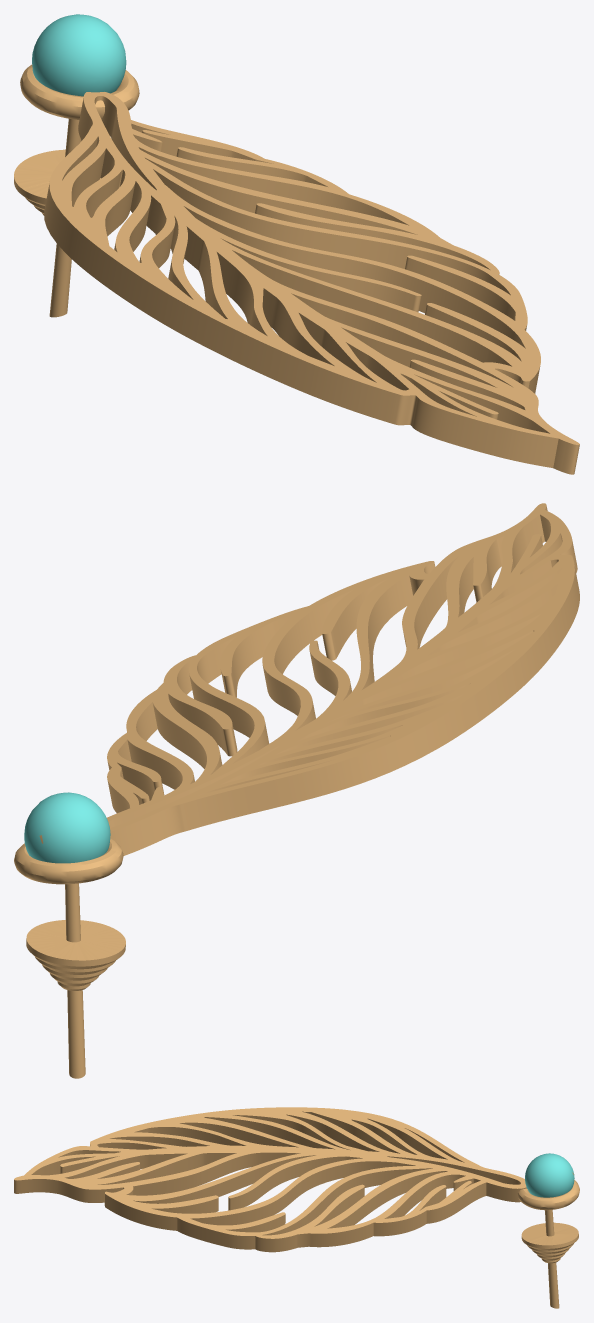
File: EarRing_01.glb
3 views of the same model, one above another, from view 1: azimuth 30°, elevation 25°; view 2: azimuth 150°, elevation 25°; view 3: azimuth 270°, elevation 25° (orthographic). The views are drawn at different scales.
Visible parts, largest first — view 1: Earring_0; view 2: Earring_0; view 3: Earring_0.
Part boxes in pixels (box(x1,y1,x2,y2)): Earring_0: box(14, 14, 579, 474); Earring_0: box(14, 503, 579, 1078); Earring_0: box(14, 1107, 579, 1308).
Bounding box in the file's own units: 0.2464 × 0.1933 × 0.635.
